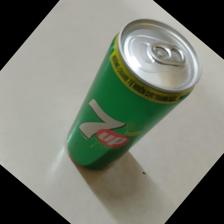7up: (65, 17, 202, 172)
